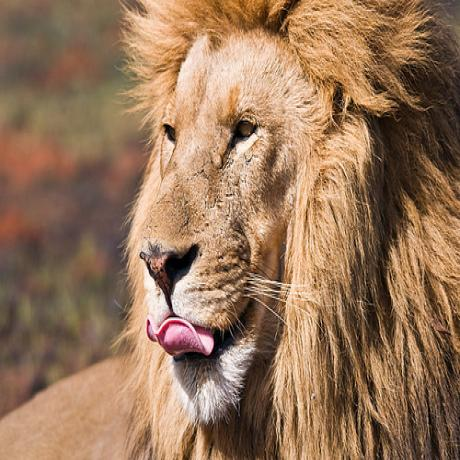Lion: (117, 0, 460, 460)
